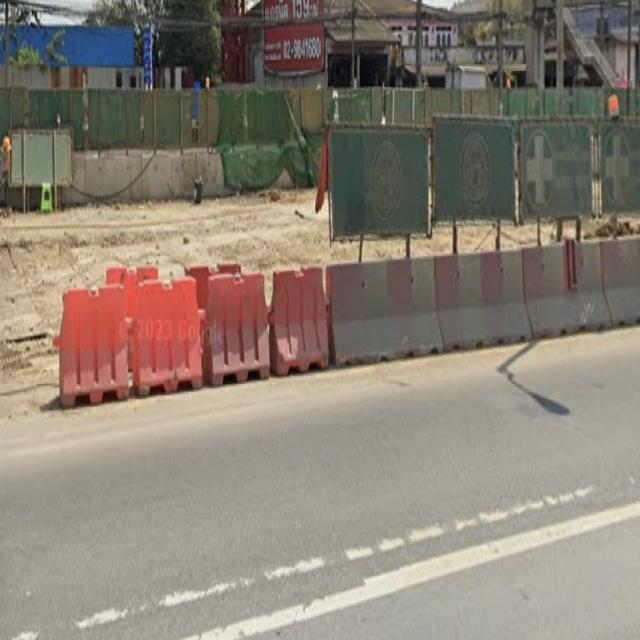fallen_object: (283, 233, 456, 372), (393, 217, 542, 363), (153, 272, 338, 389), (45, 275, 206, 408), (482, 218, 628, 351), (584, 211, 640, 342)
